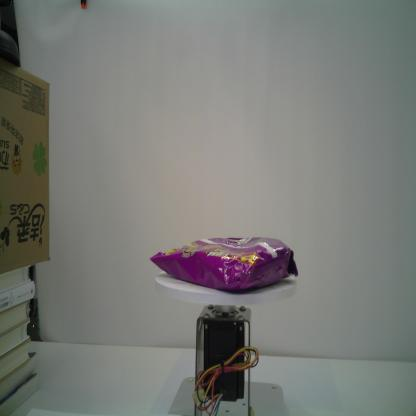Instant Noodles: (149, 235, 298, 294)
